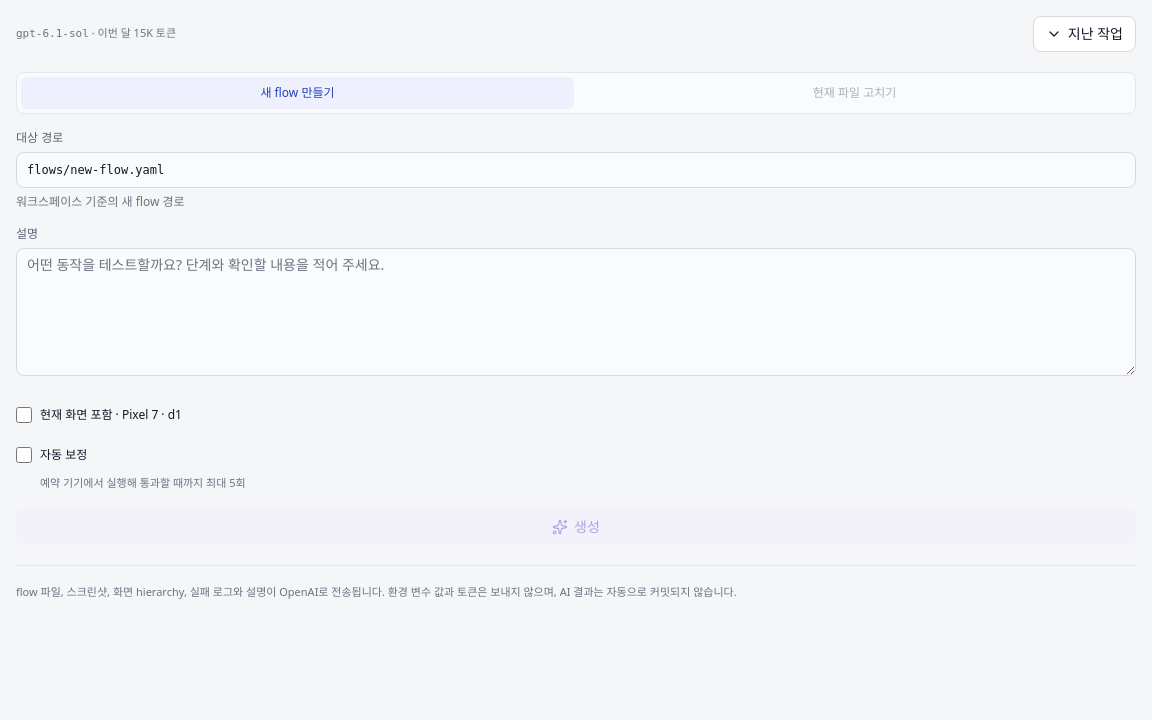
gates options by reservation/app and clears options when their prerequisites disappear
Later steps or results of the test are not shown.
Expected: the text box labelled "설명" is shown, [16,248,1136,376]
Expected: the radio button labelled "현재 파일 고치기" is disabled, [578,77,1131,109]
Click the checkbox labelled "현재 화면 포함 · Pixel 7 · d1": (24, 415) [16,407,32,423]
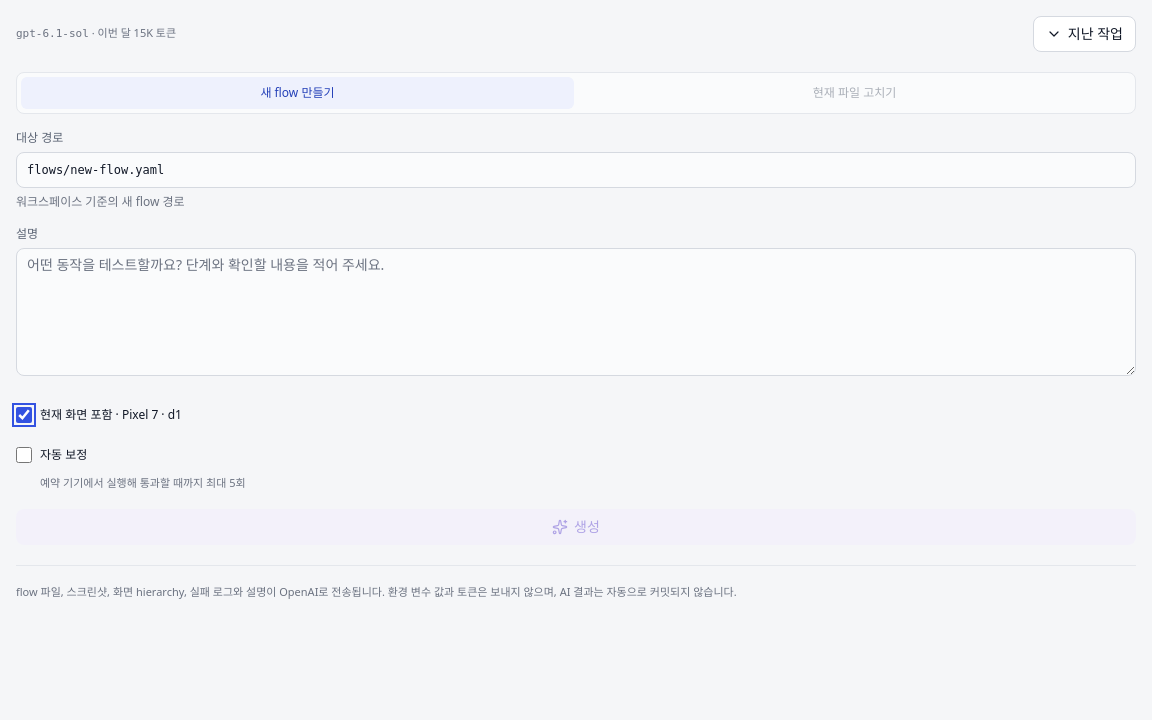
Click the checkbox labelled "자동 보정": (24, 455) [16,447,32,463]
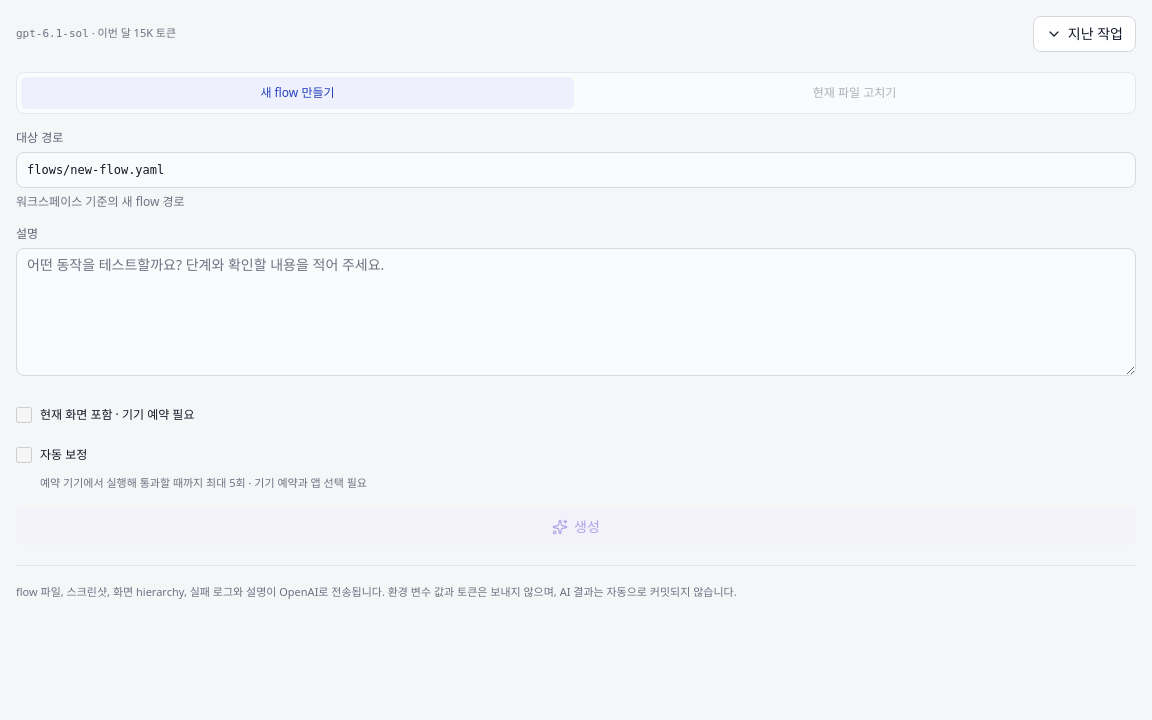
Expected: the checkbox labelled "현재 화면 포함 · 기기 예약 필요" is not checked, [16,407,32,423]
Expected: the checkbox labelled "자동 보정" is disabled, [16,447,32,463]
